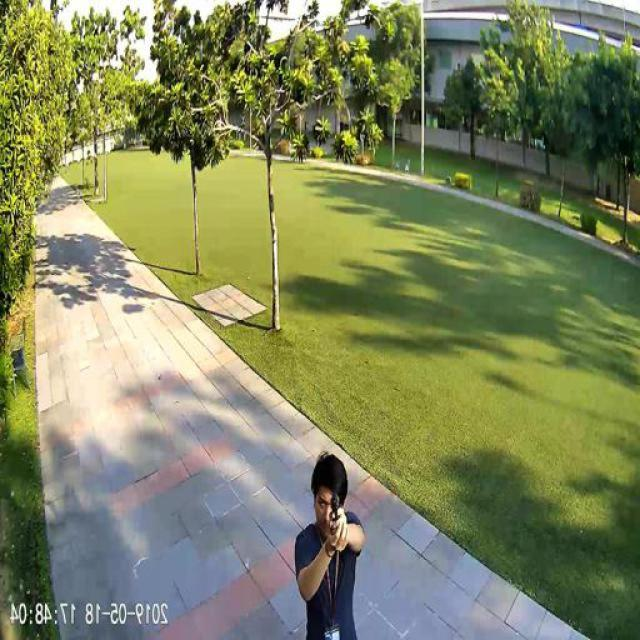weapon: (328, 493, 346, 542)
